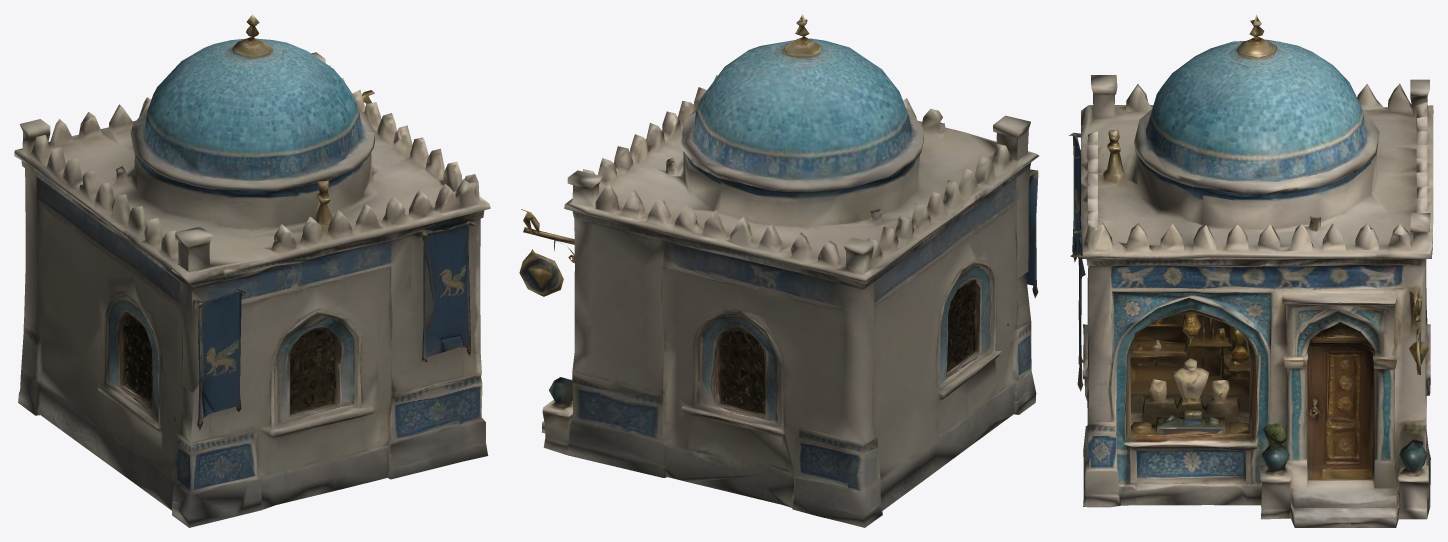
Rendered from jeweller.glb.
3 views of the same model, side by side, from view 1: azimuth 30°, elevation 25°; view 2: azimuth 150°, elevation 25°; view 3: azimuth 270°, elevation 25° (orthographic).
Parts seen in each view (by area): view 1: tripo_node_53d6cb55-0885-4a6f-ba3c-d39bf7184ee7; view 2: tripo_node_53d6cb55-0885-4a6f-ba3c-d39bf7184ee7; view 3: tripo_node_53d6cb55-0885-4a6f-ba3c-d39bf7184ee7.
Part boxes in pixels (left/top/right/bottom): tripo_node_53d6cb55-0885-4a6f-ba3c-d39bf7184ee7: left=14, top=14, right=490, bottom=527; tripo_node_53d6cb55-0885-4a6f-ba3c-d39bf7184ee7: left=519, top=14, right=1038, bottom=527; tripo_node_53d6cb55-0885-4a6f-ba3c-d39bf7184ee7: left=1069, top=14, right=1433, bottom=527.
Bounding box in the file's own units: 0.8706 × 0.9785 × 0.7719.
Materials: 1 (1 with a texture image).
